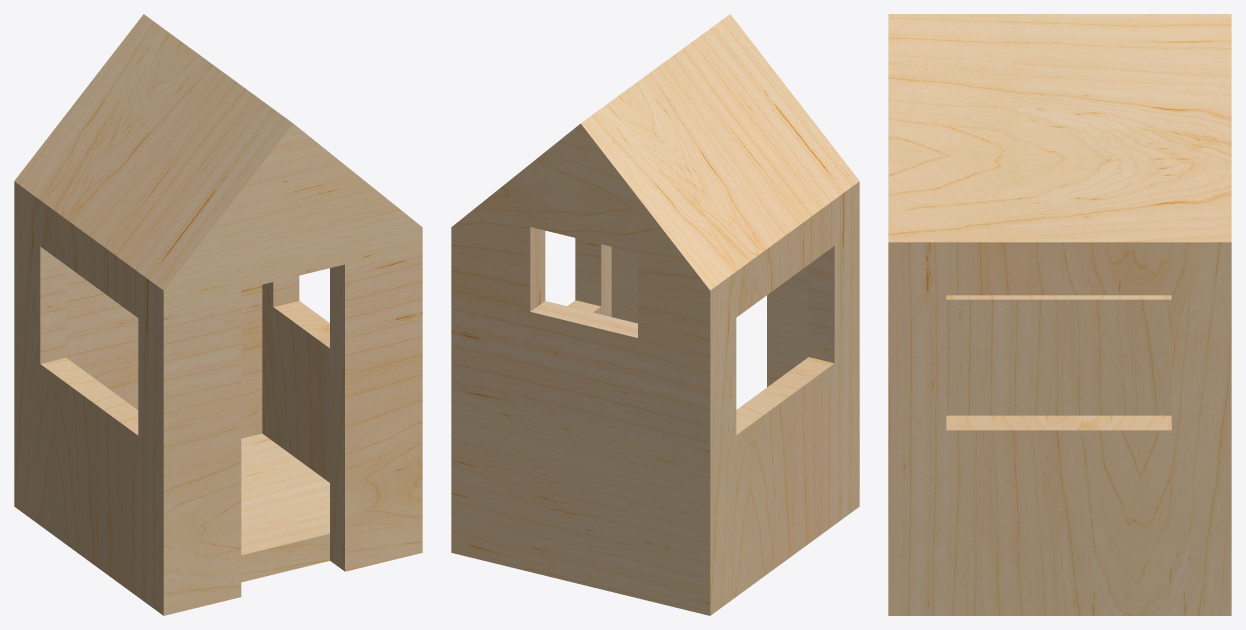
The model's file is cabin1.glb.
3 renders of one model, left to right at view 1: azimuth 30°, elevation 25°; view 2: azimuth 150°, elevation 25°; view 3: azimuth 270°, elevation 25°, orthographic. The views are drawn at different scales.
Visible parts, largest first — view 1: Cabin1.SLDPRT; view 2: Cabin1.SLDPRT; view 3: Cabin1.SLDPRT.
Part boxes in pixels (bbox=[...]): Cabin1.SLDPRT: bbox=[14, 14, 422, 615]; Cabin1.SLDPRT: bbox=[451, 14, 859, 615]; Cabin1.SLDPRT: bbox=[888, 14, 1231, 615].
Size of the model in its own units: 1.52 by 2.59 by 1.52.
1 material, 1 textured.
